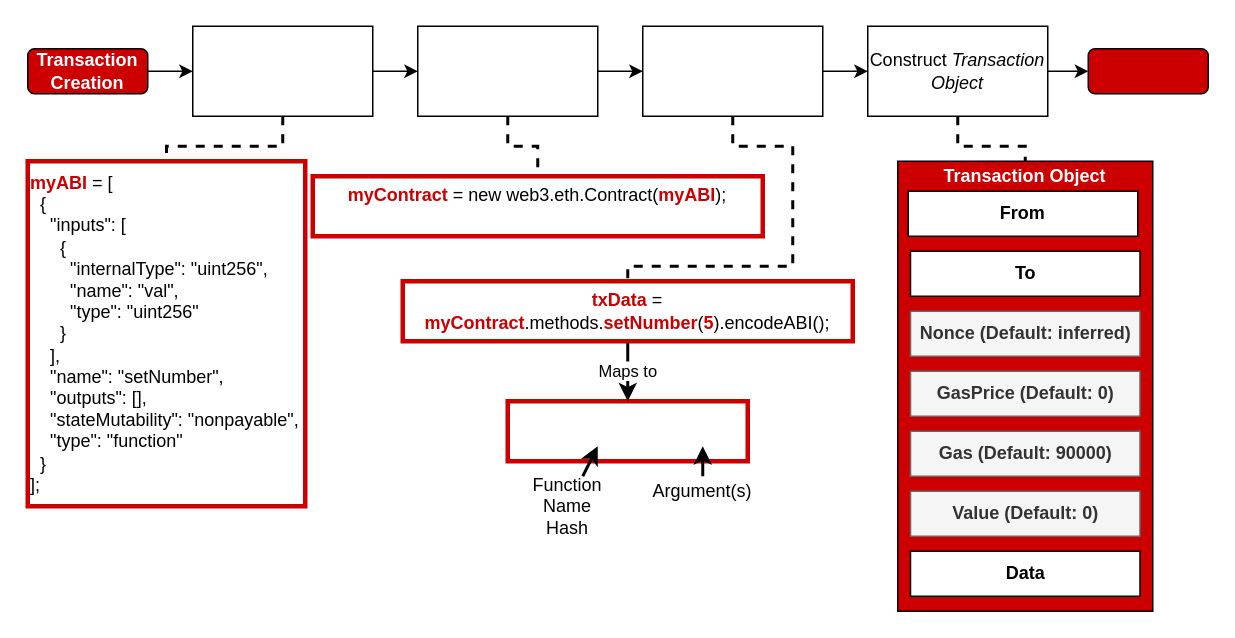
Some shapes in this 1235 by 638 pixel diagram are drawn without their labels. The centre of each missing label's shape, as x and y in pixels:
0x 1003e2d2 0000... 5: the point at 627,430
Create local contract instance using ABI: the point at 507,70
Create Transaction Data by passing function name and arguments to contract: the point at 732,70
Define Application Binary Interface: the point at 282,70
End: the point at 1147,70
